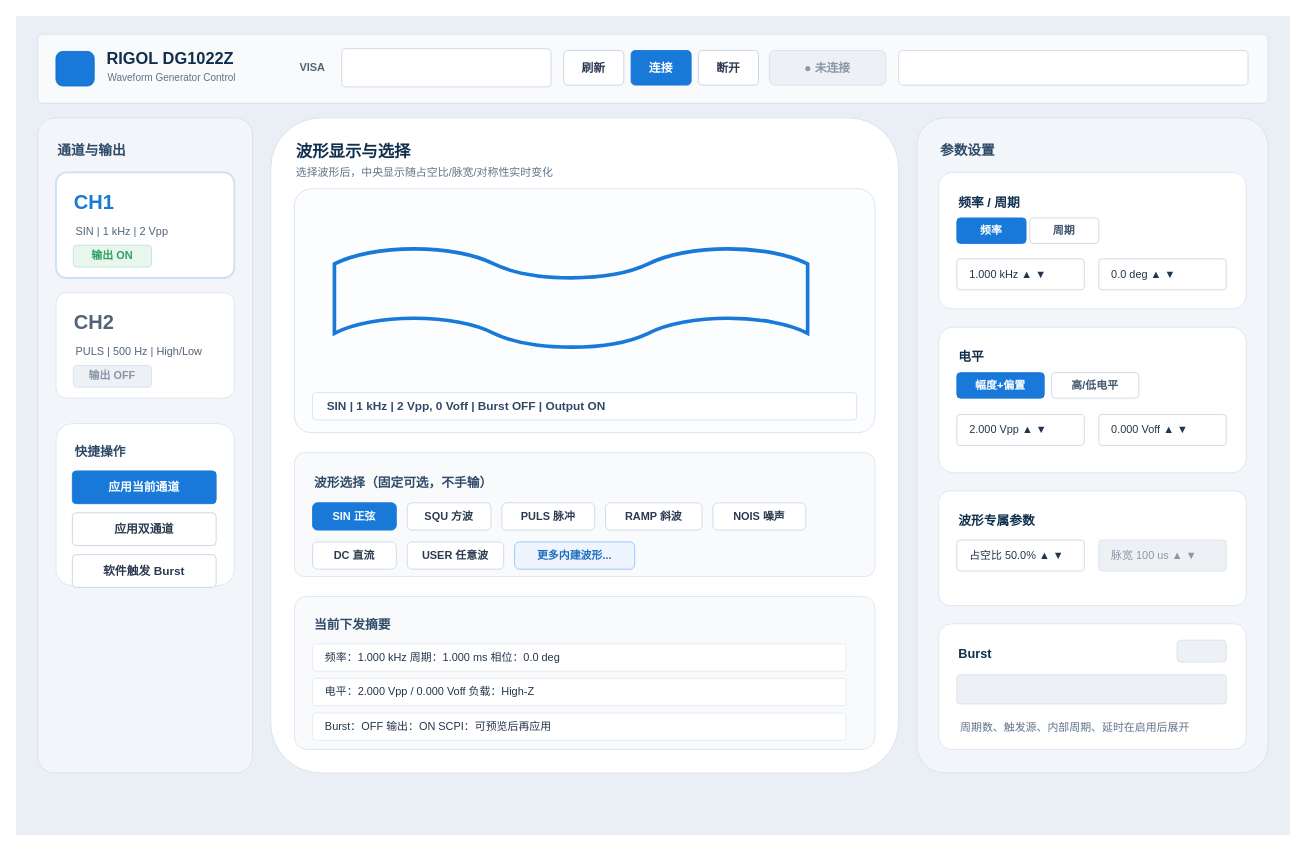
This 1305x850 diagram has some shape labels left out. The centre of each missing label's shape, as x and y in pixels:
"DG" goes at point (74, 68).
"N 周期 / 无限 / 门控" goes at point (1091, 689).
"OFF" goes at point (1201, 650).
"TCPIP::192.168.1.191::INSTR" goes at point (446, 67).
"预览 SCPI / 查询错误 / 相位同步" goes at point (1073, 67).
